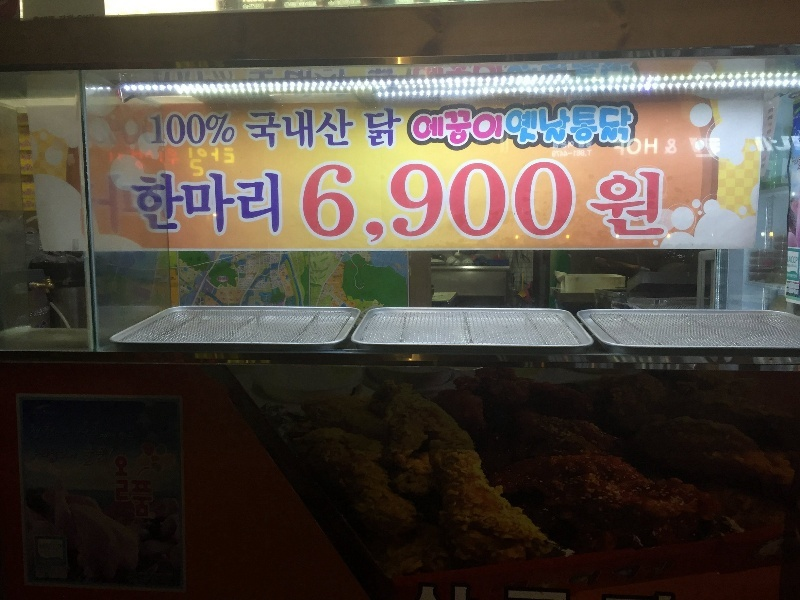text: (561, 159, 577, 245), (305, 159, 320, 245), (321, 159, 336, 245), (337, 159, 352, 245), (353, 159, 368, 245), (369, 159, 384, 245), (385, 159, 400, 245), (401, 159, 416, 245), (417, 159, 432, 245), (433, 159, 448, 245), (449, 159, 464, 245), (465, 159, 480, 245), (481, 159, 496, 245), (497, 159, 512, 245), (513, 159, 528, 245), (529, 159, 544, 245), (545, 159, 560, 245), (593, 169, 608, 243), (609, 169, 624, 243), (625, 169, 640, 243), (641, 169, 656, 243), (129, 168, 144, 235), (145, 168, 160, 235), (161, 168, 176, 235), (177, 168, 192, 235), (193, 168, 208, 235), (209, 168, 224, 235), (225, 168, 240, 235), (241, 168, 256, 235), (257, 168, 272, 235), (657, 169, 667, 243), (257, 106, 272, 154), (273, 106, 288, 154), (289, 106, 304, 154), (305, 106, 320, 154), (321, 106, 336, 154), (337, 106, 352, 154), (353, 106, 368, 154), (369, 106, 384, 154), (385, 106, 400, 154), (513, 103, 528, 151), (529, 103, 544, 151), (545, 103, 560, 151), (561, 103, 576, 151), (577, 103, 592, 151), (593, 103, 608, 151), (609, 103, 624, 151), (625, 103, 639, 151), (243, 106, 256, 154), (114, 457, 128, 501), (273, 168, 282, 235), (417, 107, 432, 147), (433, 107, 448, 147), (449, 107, 464, 147), (465, 107, 480, 147), (481, 107, 496, 147), (161, 111, 176, 149), (177, 111, 192, 149), (193, 111, 208, 149), (209, 111, 224, 149), (193, 149, 208, 184), (209, 149, 224, 184), (132, 480, 144, 518), (586, 169, 592, 243), (225, 111, 236, 149), (225, 149, 236, 184), (150, 111, 160, 149), (145, 480, 155, 518), (625, 136, 640, 159), (641, 136, 656, 159), (657, 136, 672, 159), (673, 136, 688, 159), (689, 136, 704, 159), (705, 136, 720, 159), (721, 136, 736, 159), (737, 136, 752, 159), (753, 136, 768, 159), (769, 136, 784, 159), (785, 136, 800, 159), (33, 446, 48, 468), (49, 446, 64, 468), (65, 446, 80, 468), (81, 446, 96, 468), (97, 446, 112, 468), (408, 107, 416, 147), (497, 107, 505, 147), (33, 423, 48, 444), (49, 423, 64, 444), (65, 423, 80, 444), (81, 423, 96, 444), (97, 423, 112, 444), (113, 423, 128, 444), (506, 103, 512, 151), (301, 159, 304, 245), (401, 106, 405, 154), (616, 136, 624, 159), (129, 423, 136, 444), (188, 149, 192, 184), (129, 457, 130, 501), (113, 446, 114, 468), (31, 423, 32, 444)
